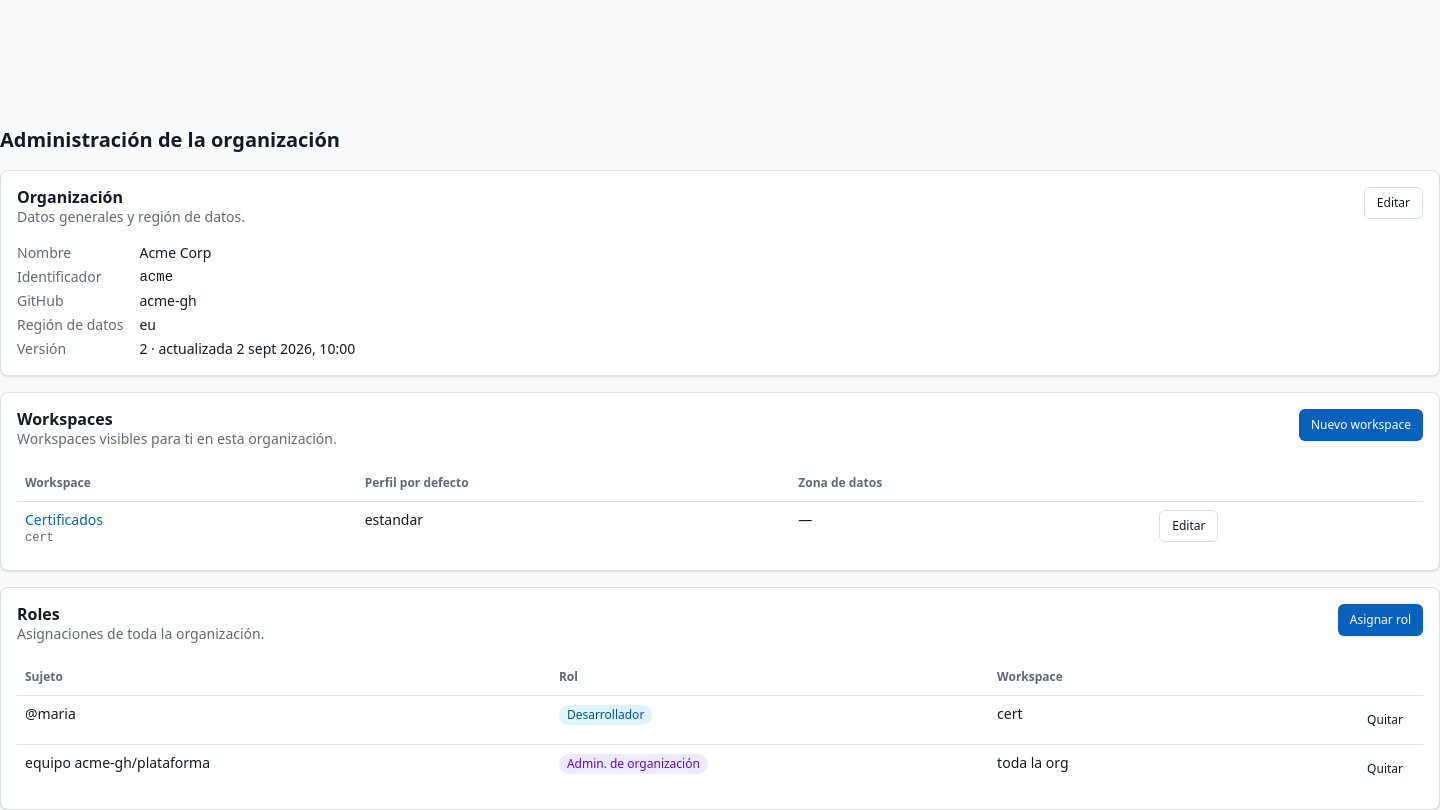
Test: administración de la organización › al editar un workspace envía la versión vista y recarga la lista
The width and height of the screenshot is (1440, 810).
(page scrolled)
Click the button "Editar" in the row of "Certificados" at (1189, 526), box [1159,510,1218,542]
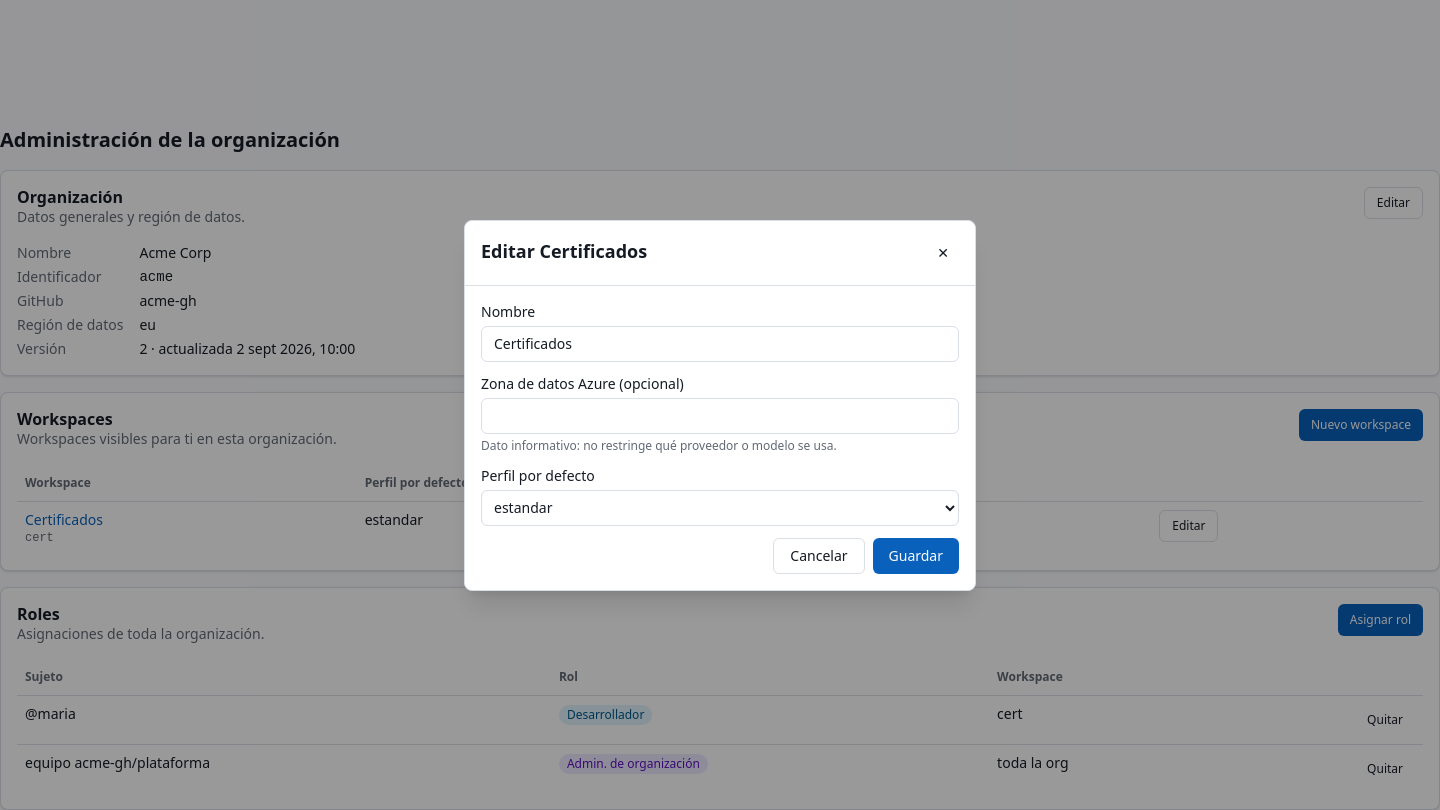
Replace the text in the field labelled "Nombre" with "Certificados 2" at (720, 344), box [481,326,959,362]
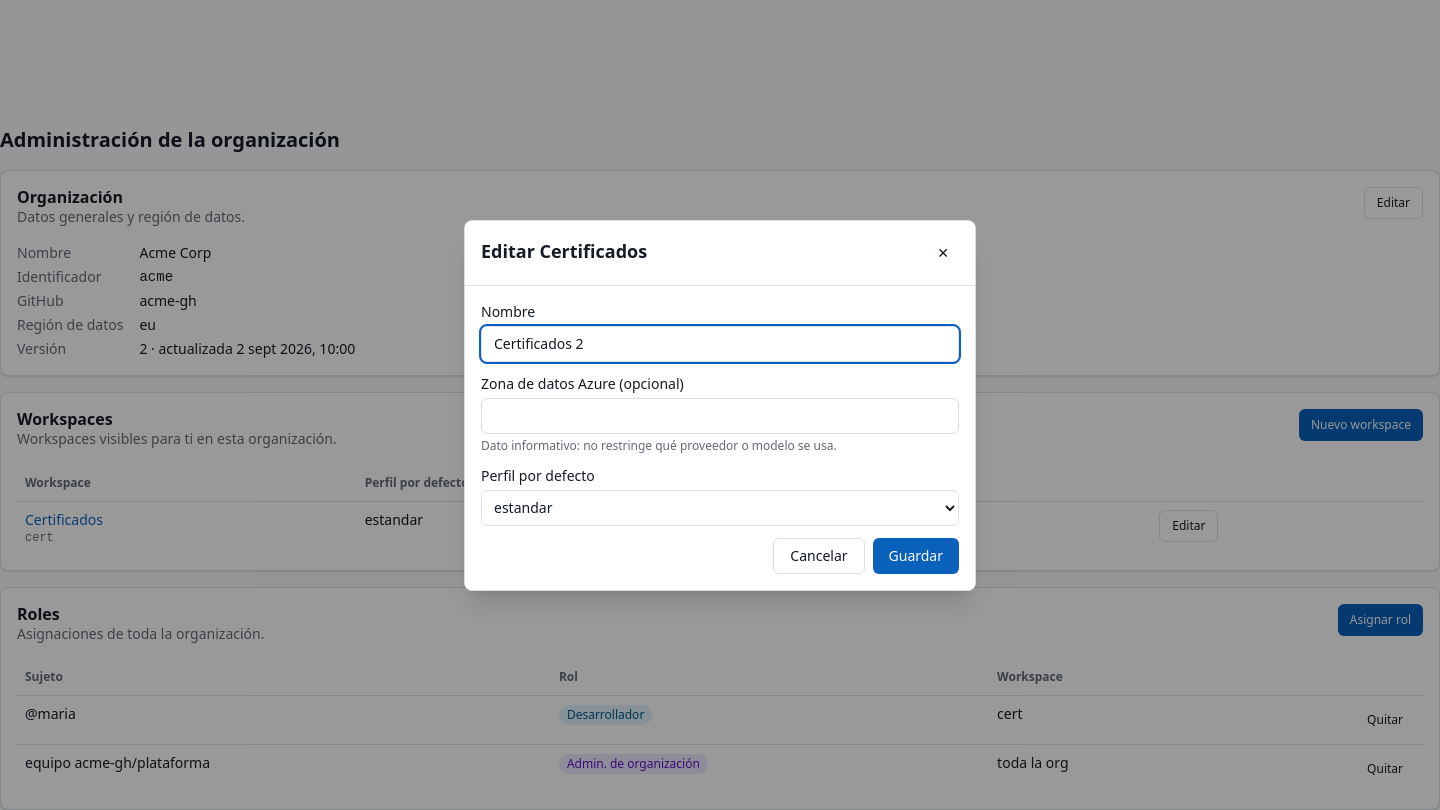
Click the button "Guardar" at (916, 556), box [872,538,959,574]
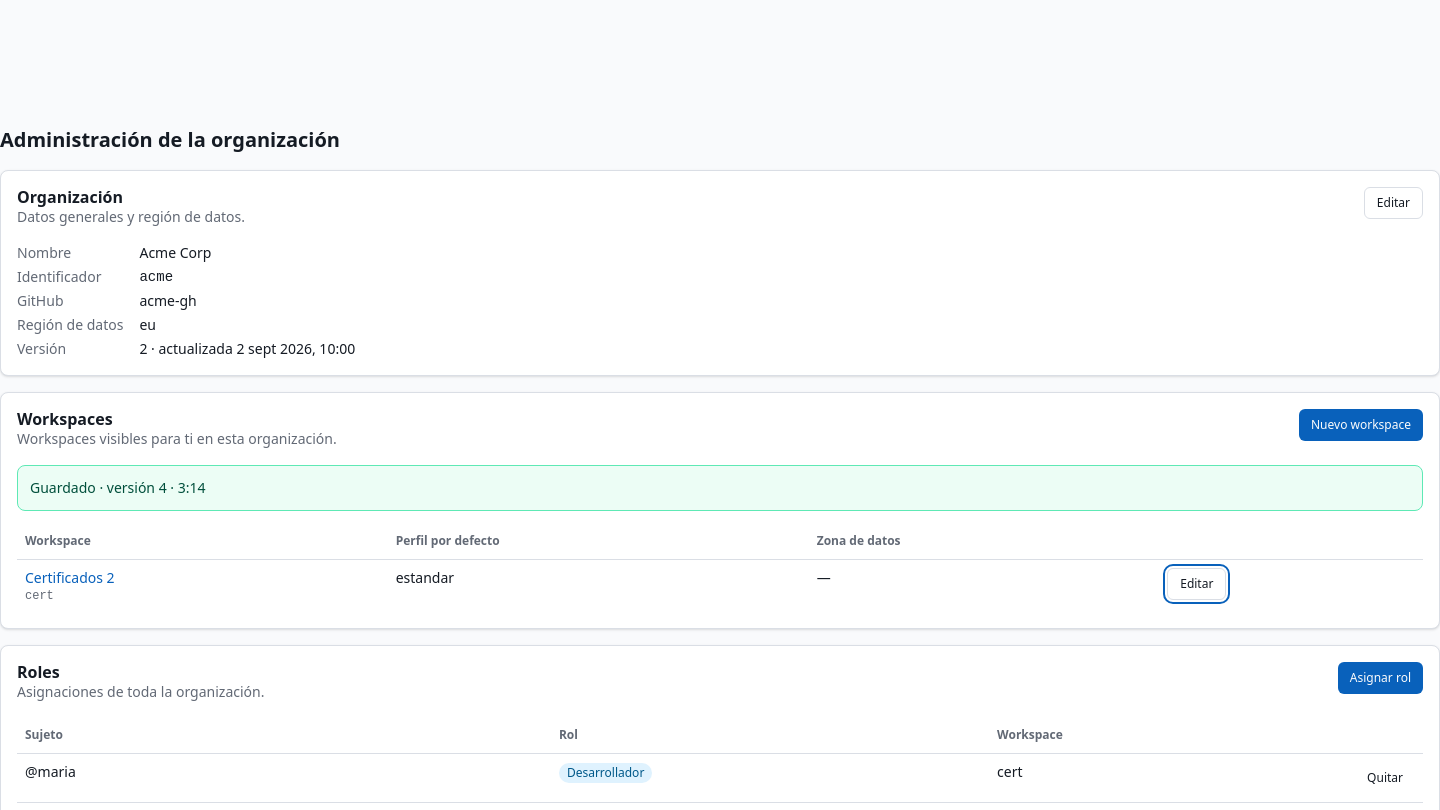
Check: the link "Certificados 2" is shown, box [25,568,115,586]
Check: the text "Guardado · versión 4 · 3:14" is shown, box [17,465,1423,511]
